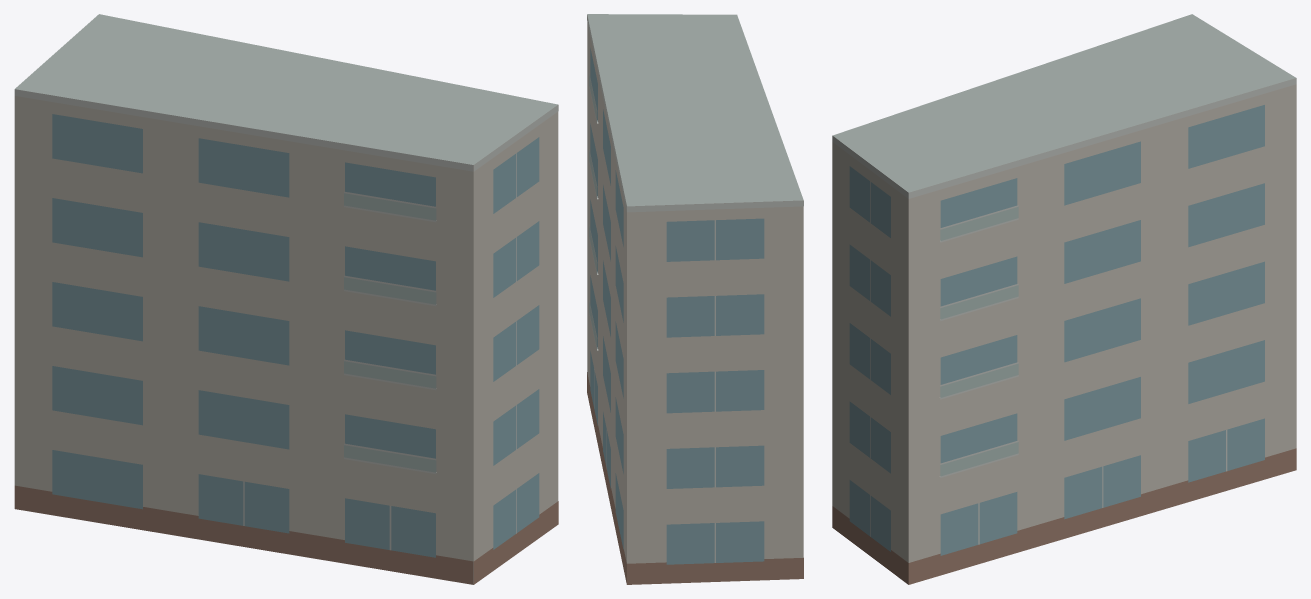
The model's file is survey-upis-32725032.glb.
3 renders of one model, left to right at view 1: azimuth 30°, elevation 25°; view 2: azimuth 150°, elevation 25°; view 3: azimuth 270°, elevation 25°, orthographic. The views are drawn at different scales.
Visible parts, largest first — view 1: survey-upis-32725032.tmp; view 2: survey-upis-32725032.tmp; view 3: survey-upis-32725032.tmp.
Part boxes in pixels (box(x1,y1,x2,y2)): survey-upis-32725032.tmp: box(14, 14, 558, 584); survey-upis-32725032.tmp: box(587, 14, 803, 584); survey-upis-32725032.tmp: box(832, 14, 1296, 584).
Bounding box in the file's own units: 14.91 × 15.25 × 16.37.
